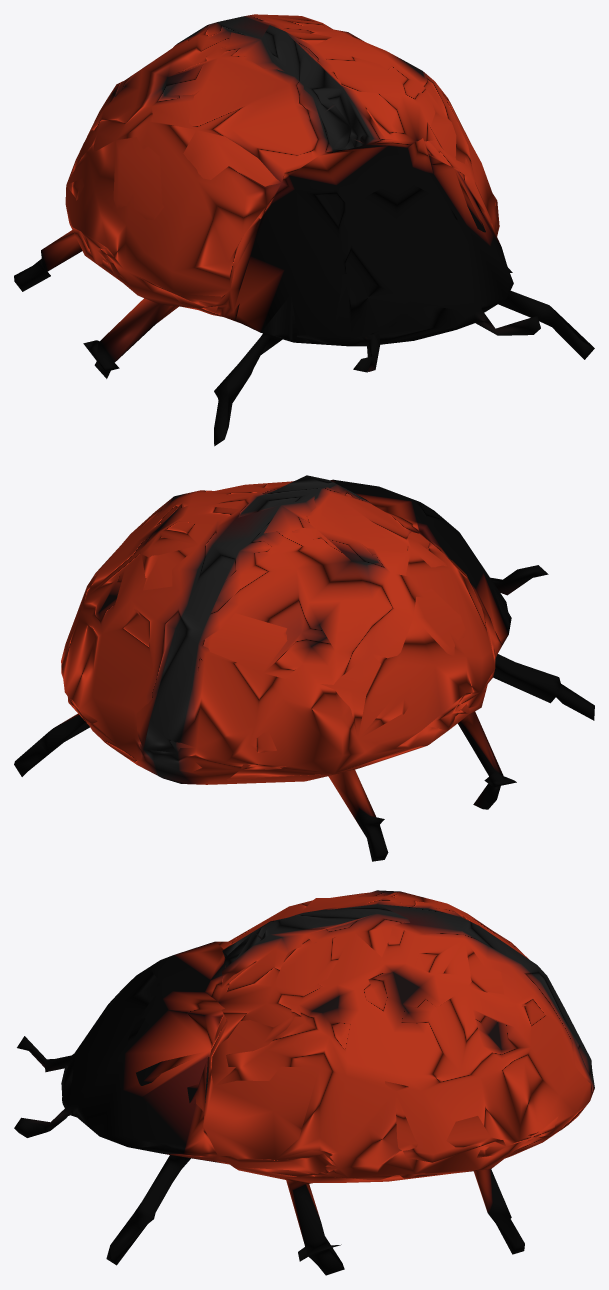
The model's file is gen3d-ladybug-lod0.glb.
3 views of the same model, one above another, from view 1: azimuth 30°, elevation 25°; view 2: azimuth 150°, elevation 25°; view 3: azimuth 270°, elevation 25° (orthographic).
Parts seen in each view (by area): view 1: part_0; view 2: part_0; view 3: part_0.
Part boxes in pixels (x1,y1,x2,y2): part_0: (14, 14, 594, 446); part_0: (14, 475, 594, 861); part_0: (14, 890, 594, 1275).
Size of the model in its own units: 1.53 by 1 by 1.9.
